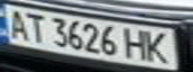2: (78, 20, 103, 55)
3: (45, 15, 69, 48)
6: (100, 23, 124, 57), (63, 18, 84, 52)
A: (3, 7, 30, 40)
H: (121, 26, 151, 61)
K: (142, 29, 178, 65)
T: (21, 11, 48, 43)
